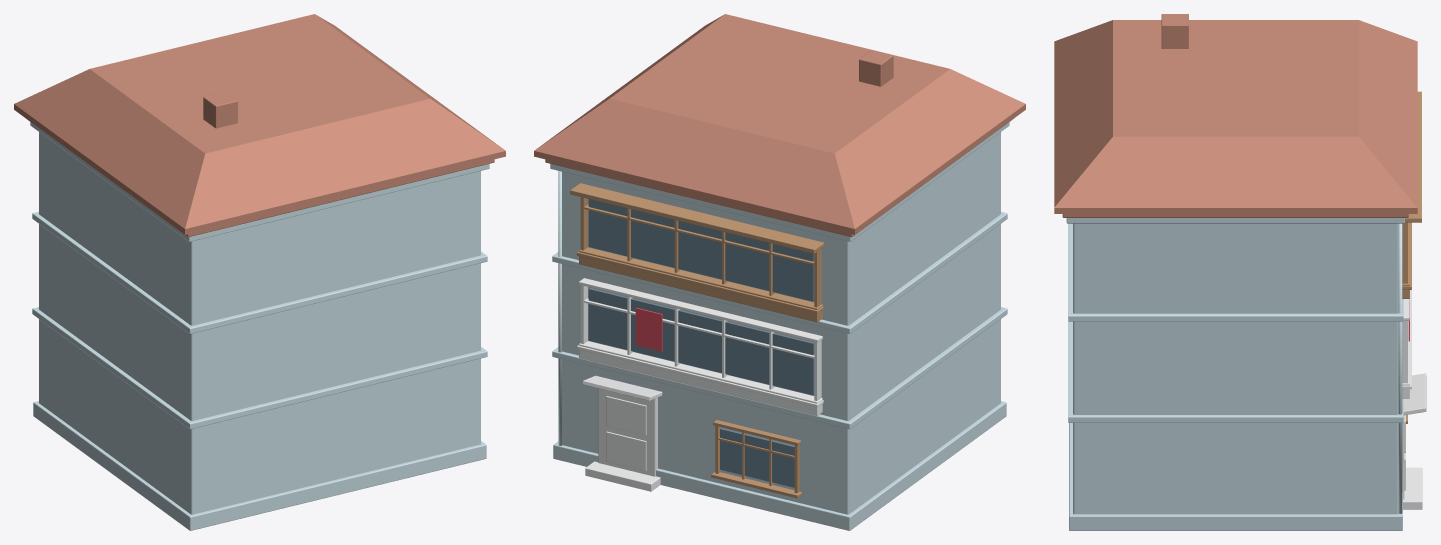
Rendered from Hamidiye_ZubeydeBlueHouse.fbx.
The picture shows the model from 3 angles, left to right: view 1: azimuth 30°, elevation 25°; view 2: azimuth 150°, elevation 25°; view 3: azimuth 270°, elevation 25°; orthographic projection. The views are drawn at different scales.
Parts seen in each view (by area): view 1: Zubeyde_Body, Zubeyde_Roof; view 2: Zubeyde_Body, Zubeyde_Roof, Zubeyde_TopFrame, Zubeyde_MidGlass, Zubeyde_TopGlass, Zubeyde_MidFrame, Zubeyde_Door, Zubeyde_GroundGlass, Zubeyde_GroundWin, Zubeyde_Flag; view 3: Zubeyde_Body, Zubeyde_Roof, Zubeyde_Door, Zubeyde_TopFrame, Zubeyde_MidFrame.
Part boxes in pixels (<box>): Zubeyde_Body: <box>30,122,489,530</box>; Zubeyde_Roof: <box>14,14,505,237</box>; Zubeyde_Body: <box>550,122,1009,530</box>; Zubeyde_Roof: <box>534,14,1025,237</box>; Zubeyde_TopFrame: <box>570,183,824,322</box>; Zubeyde_MidGlass: <box>588,288,814,395</box>; Zubeyde_TopGlass: <box>588,199,814,301</box>; Zubeyde_MidFrame: <box>577,278,823,415</box>; Zubeyde_Door: <box>582,375,662,491</box>; Zubeyde_GroundGlass: <box>720,428,794,487</box>; Zubeyde_GroundWin: <box>711,420,801,498</box>; Zubeyde_Flag: <box>635,307,662,351</box>; Zubeyde_Body: <box>1066,218,1404,530</box>; Zubeyde_Roof: <box>1054,14,1417,217</box>; Zubeyde_Door: <box>1402,373,1426,509</box>; Zubeyde_TopFrame: <box>1402,91,1421,298</box>; Zubeyde_MidFrame: <box>1402,290,1411,398</box>.
Bounding box in the file's own units: 10.4 × 11.65 × 9.84.
